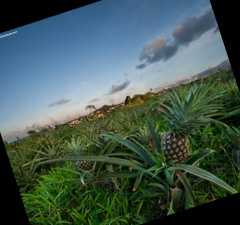Pineapple: (156, 86, 218, 165)
